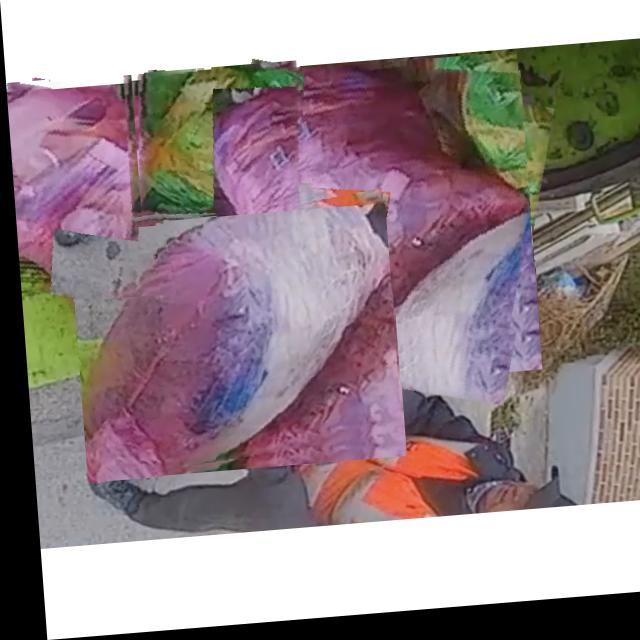other_trashbag: (238, 72, 527, 375), (79, 211, 384, 473), (7, 83, 145, 301), (138, 73, 299, 220)
